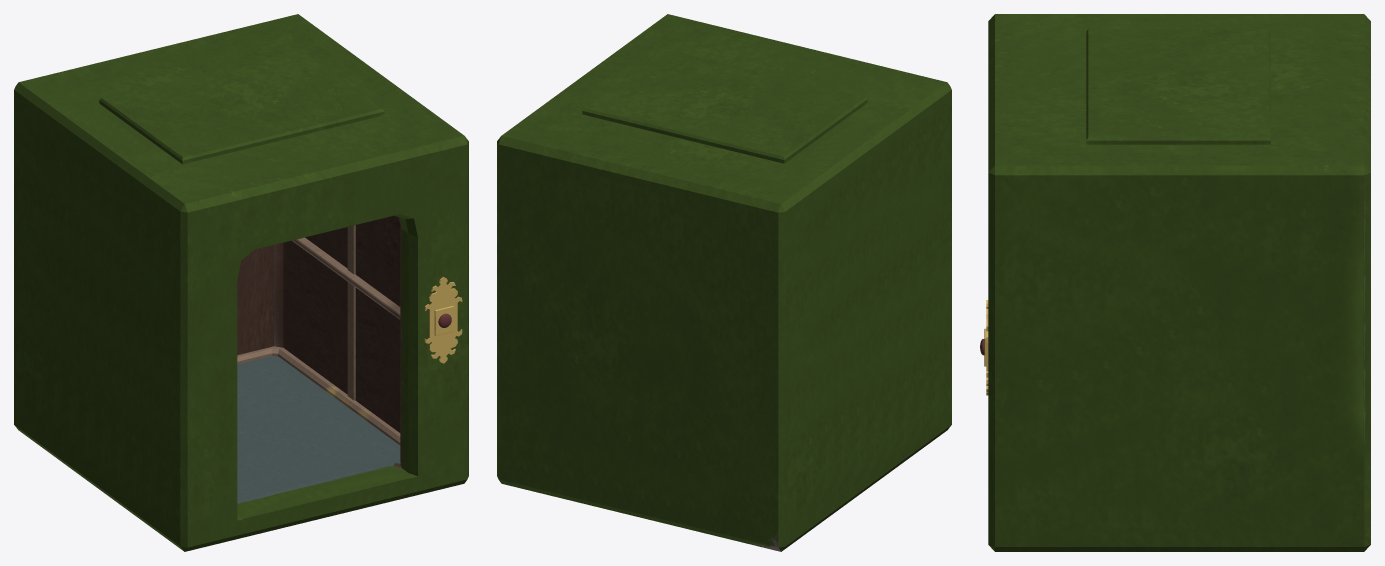
Rendered from asansör.fbx.
The picture shows the model from 3 angles, left to right: view 1: azimuth 30°, elevation 25°; view 2: azimuth 150°, elevation 25°; view 3: azimuth 270°, elevation 25°; orthographic projection. The views are drawn at different scales.
Parts seen in each view (by area): view 1: asansör; view 2: asansör; view 3: asansör.
Boxes of the visible parts, <box> form: asansör: <box>14,14,468,551</box>; asansör: <box>497,14,951,551</box>; asansör: <box>980,14,1370,551</box>.
Size of the model in its own units: 976 by 1144 by 1032.
1 material, 1 textured.
